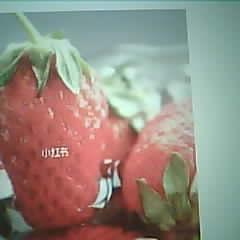straw-ripe: (0, 43, 106, 227)
